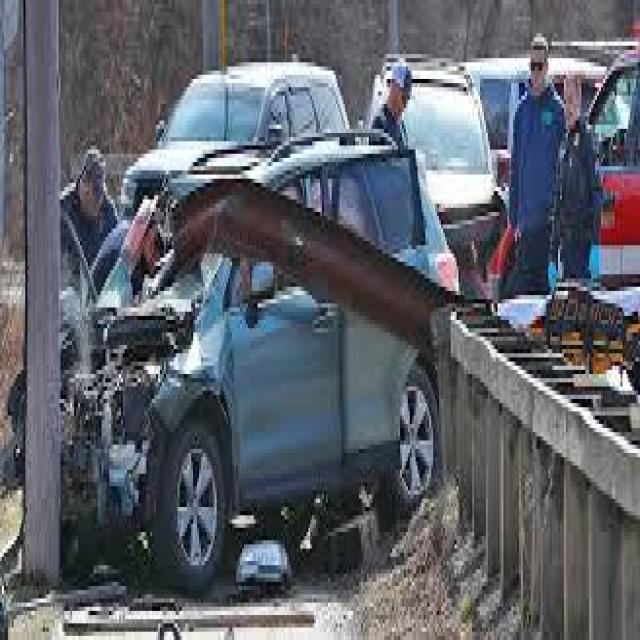severe: (0, 101, 462, 596)
